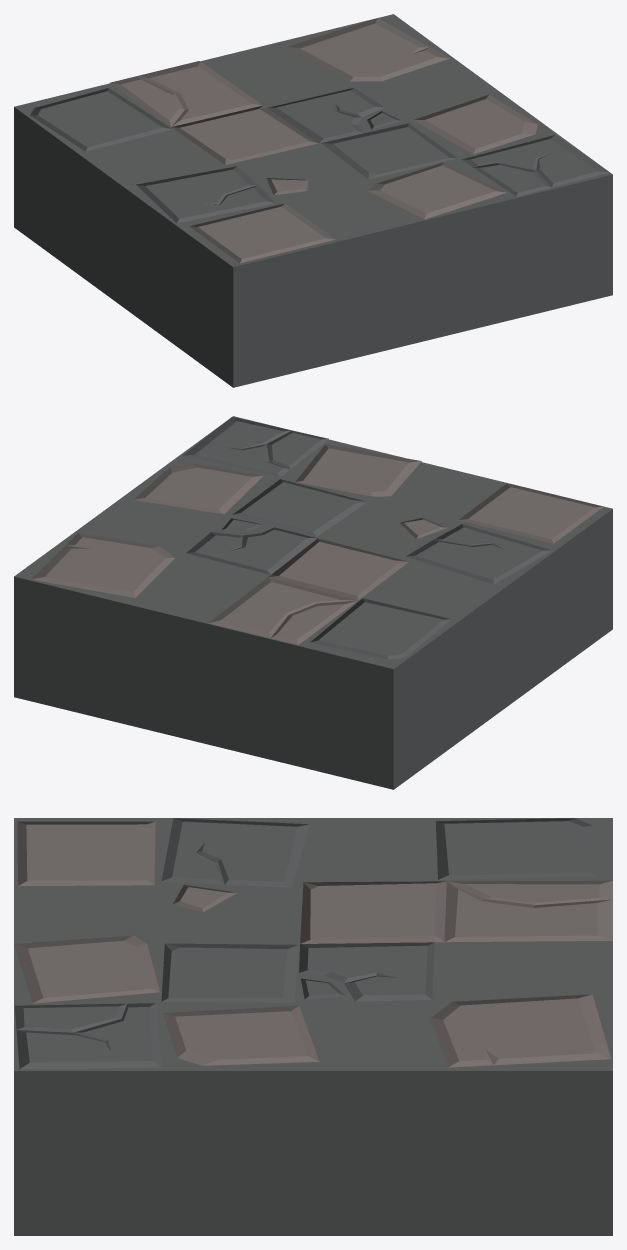
File: Ground_Tiles_Large_00.FBX
The picture shows the model from 3 angles, top to bottom: view 1: azimuth 30°, elevation 25°; view 2: azimuth 150°, elevation 25°; view 3: azimuth 270°, elevation 25°; orthographic projection. The views are drawn at different scales.
Parts seen in each view (by area): view 1: Ground_Tiles_Large_00; view 2: Ground_Tiles_Large_00; view 3: Ground_Tiles_Large_00.
Boxes of the visible parts, <box> form: Ground_Tiles_Large_00: <box>14,14,612,387</box>; Ground_Tiles_Large_00: <box>14,416,612,789</box>; Ground_Tiles_Large_00: <box>14,818,612,1235</box>.
Size of the model in its own units: 100 by 30.89 by 100.
